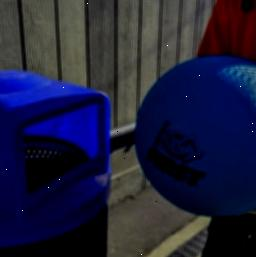algae: (134, 53, 256, 212)
